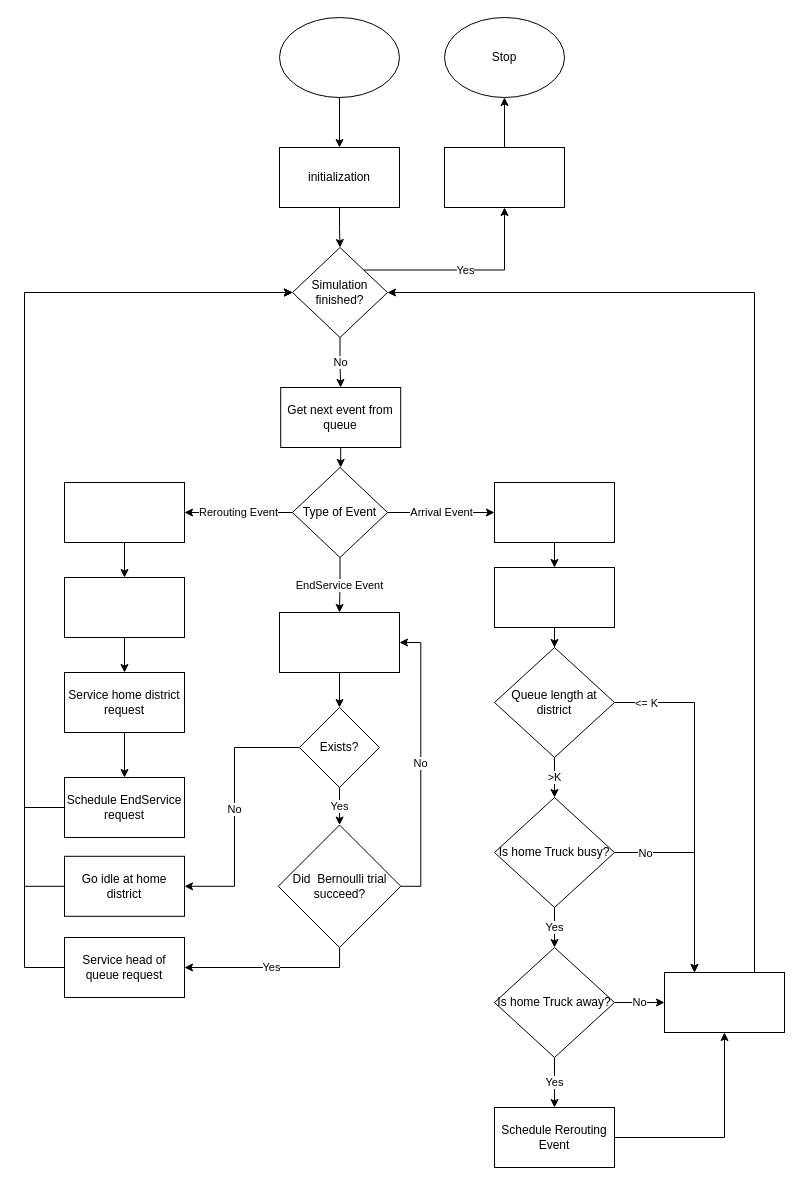
Some shapes in this 802 by 1185 pixel diagram are drawn without their labels. The shapes that lost their labels are listed below. From the top down, each one's box as (x1, y1, x2, y2) in pixels, then its label:
(278, 16, 400, 98): Start
(444, 146, 564, 208): Report Statistics
(64, 482, 184, 542): Cancel EndService Event of current request
(494, 482, 614, 542): Determine waste Type and Service Time
(64, 576, 184, 638): Put interrupted request at head of queue with new Service Time
(494, 566, 614, 628): Queue request to Arrival District
(278, 612, 400, 672): Find next district with non-empty queue
(664, 972, 784, 1032): Schedule new Arrival Event
